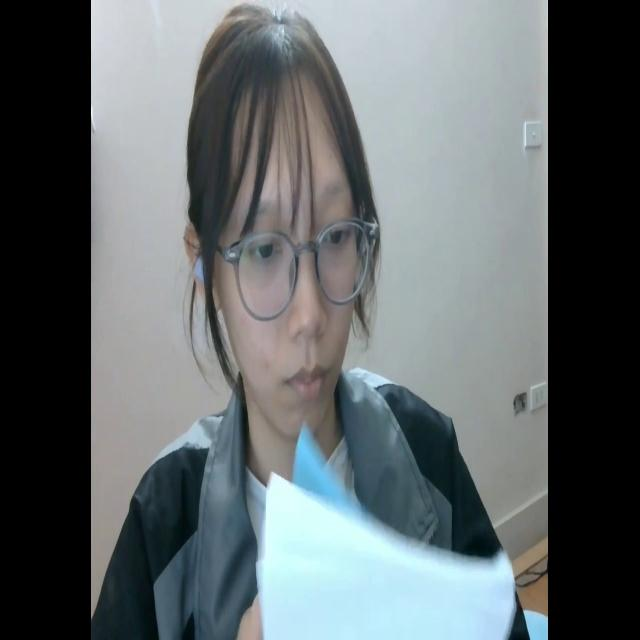book: (259, 433, 513, 640)
student: (116, 13, 524, 640)
